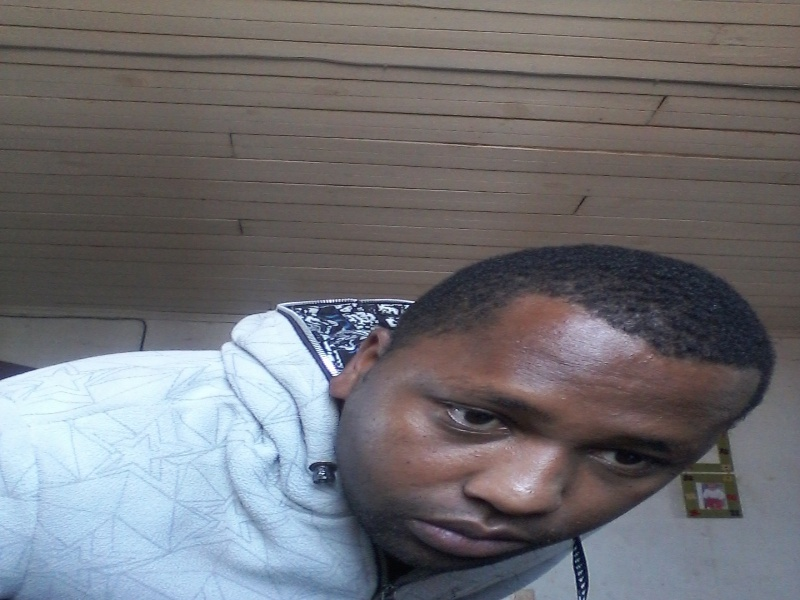TsisyArotava: (316, 226, 718, 591)
